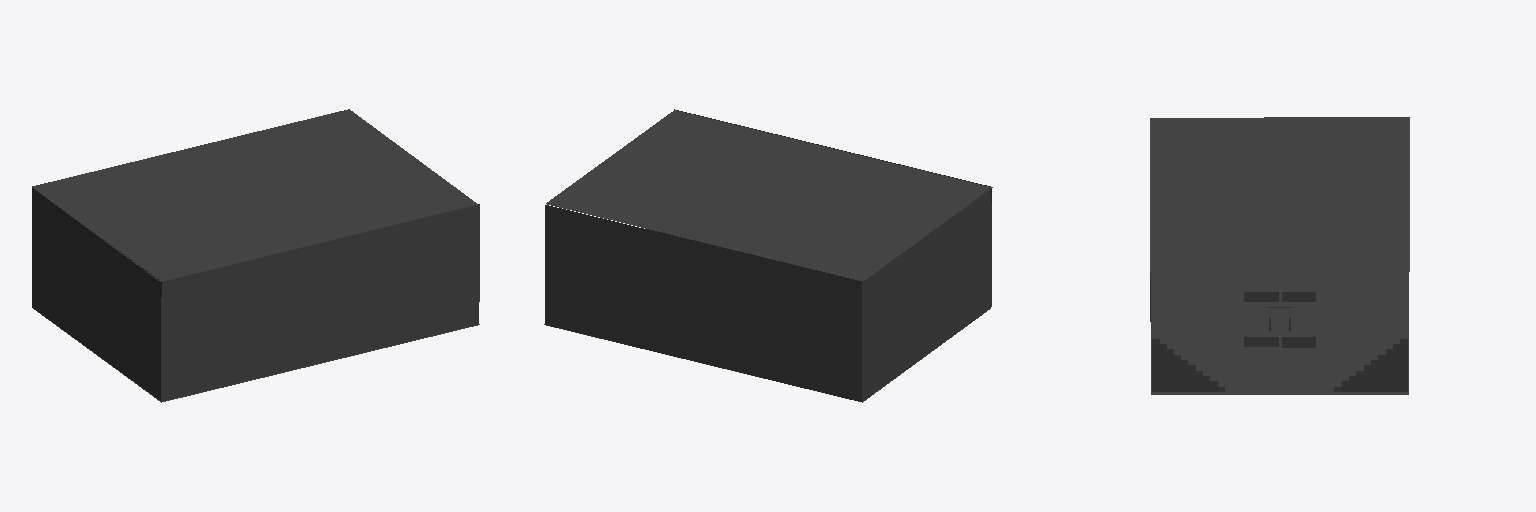
File: tabletennis_stage.obj
The picture shows the model from 3 angles: view 1: azimuth 30°, elevation 25°; view 2: azimuth 150°, elevation 25°; view 3: azimuth 270°, elevation 25°; orthographic projection.
Parts seen in each view (by area): view 1: Plane.005, Plane.003, Plane.001; view 2: Plane.005, Plane.002, Plane.001; view 3: Plane.005, 立方体.025, Plane.
Boxes of the visible parts, <box> form: Plane.005: <box>32,109,477,281</box>; Plane.003: <box>161,204,479,401</box>; Plane.001: <box>32,188,161,400</box>; Plane.005: <box>546,110,992,280</box>; Plane.002: <box>545,205,861,401</box>; Plane.001: <box>862,188,991,401</box>; Plane.005: <box>1150,117,1409,272</box>; 立方体.025: <box>1152,272,1407,391</box>; Plane: <box>1151,272,1408,394</box>.
Size of the model in its own units: 98.97 by 35.96 by 69.46.